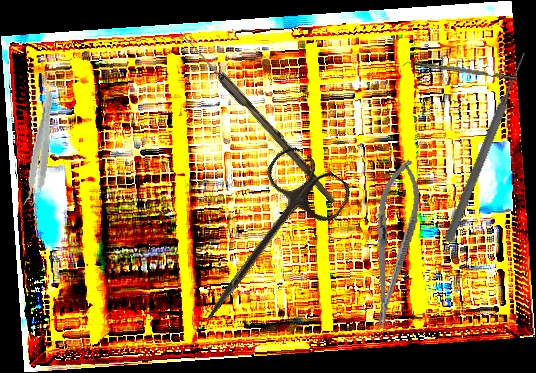Chopper: (402, 58, 517, 86)
Iris Scissors: (176, 140, 357, 347)
Needle Holder: (358, 155, 428, 333)
Pusher: (442, 49, 531, 244)
Surgical Spoon: (175, 29, 340, 204)
Tissue Forceps: (21, 90, 58, 208)
